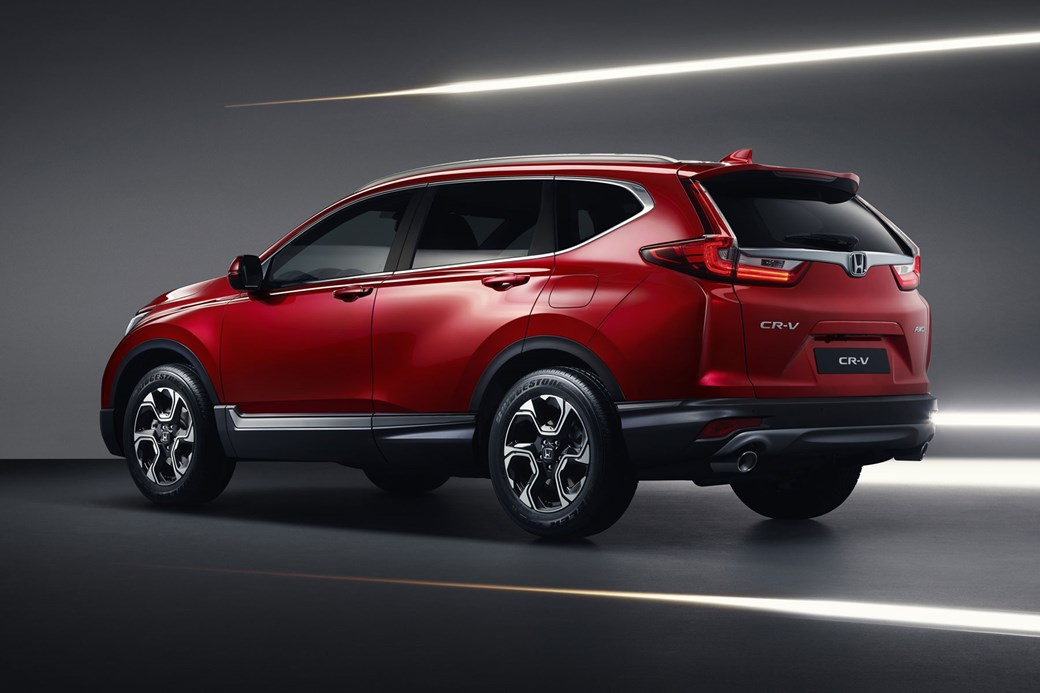crv: (82, 140, 945, 553)
